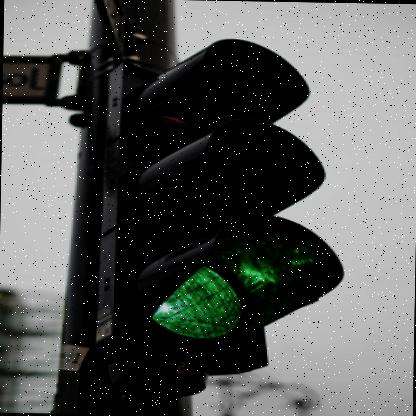trafficlight: (102, 35, 355, 402)
